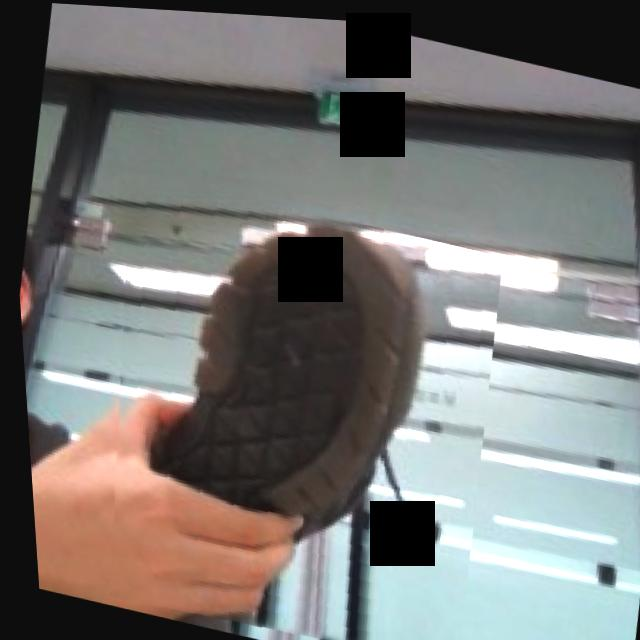shoe: (53, 165, 521, 640)
